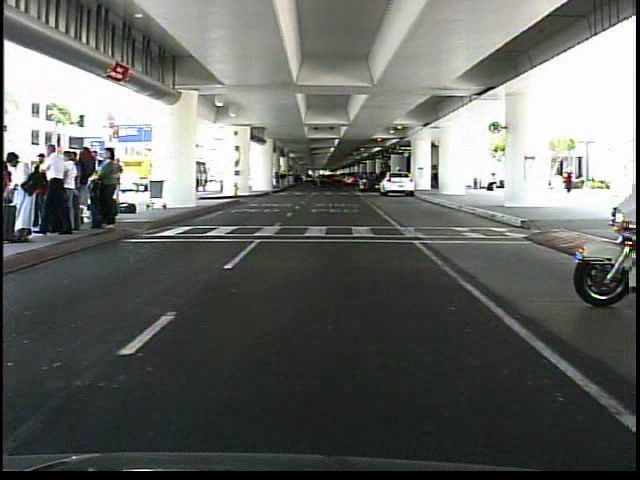person: (556, 158, 579, 198), (484, 166, 500, 197)
